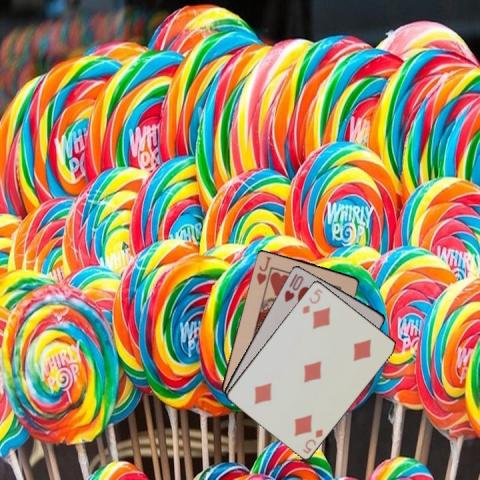10h: (281, 270, 305, 303)
5d: (299, 286, 325, 316), (299, 425, 324, 455)
Jh: (253, 253, 272, 286)
